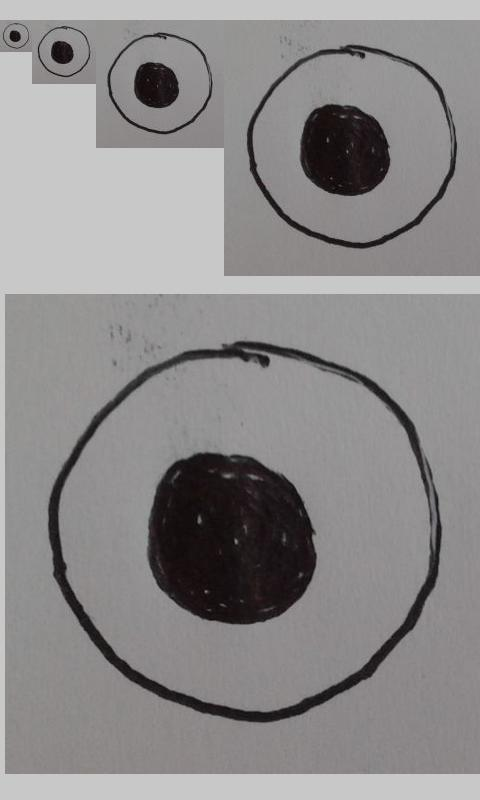radio_button: (45, 337, 443, 725), (243, 42, 459, 251), (107, 31, 213, 135), (37, 25, 91, 78), (2, 22, 30, 49)
